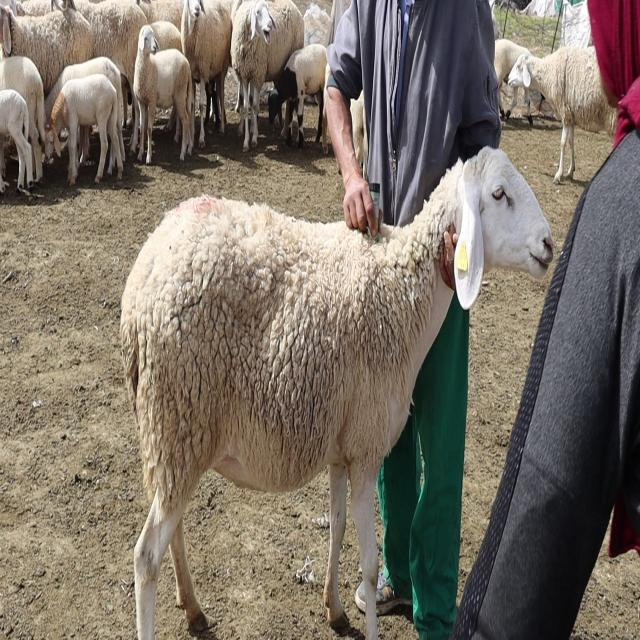Score_3: (120, 147, 553, 639)
